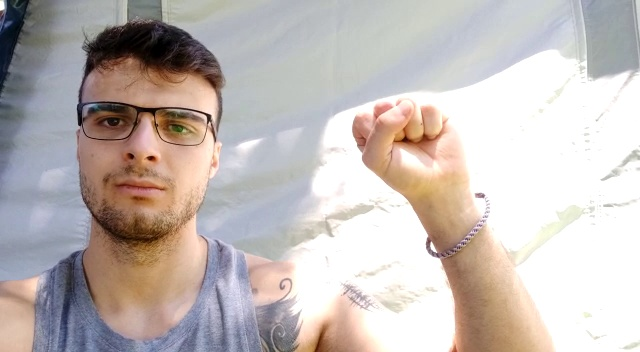Fist: (349, 85, 474, 230)
